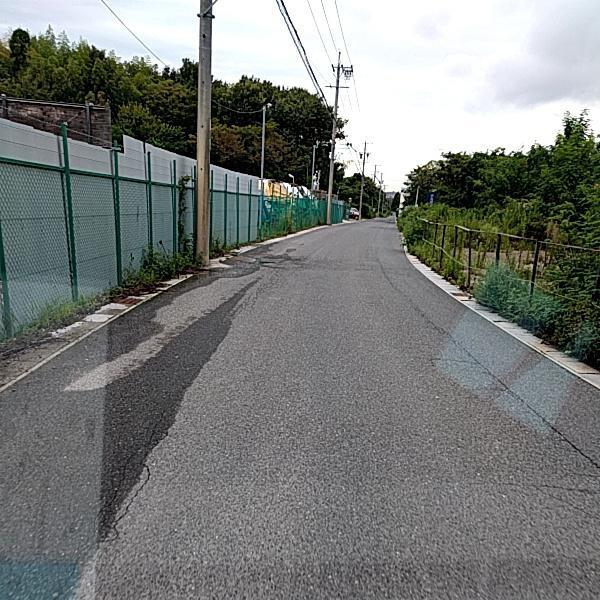D10: (485, 477, 599, 493), (425, 354, 493, 367)
D20: (93, 423, 171, 553)
